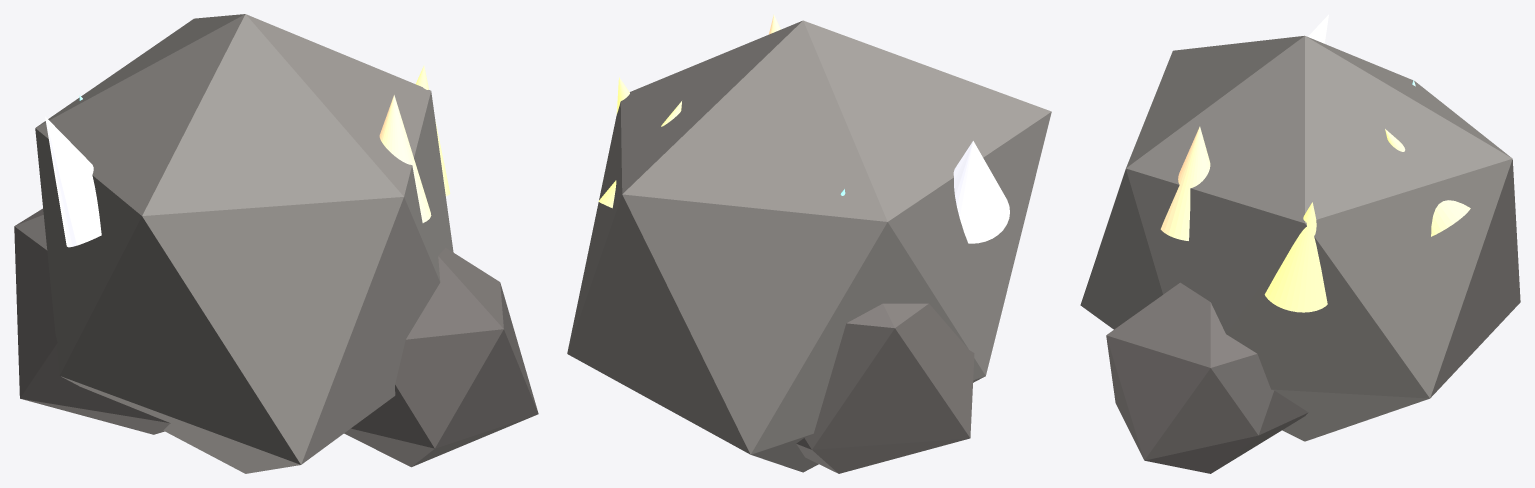
File: ore_vein.glb
3 views of the same model, side by side, from view 1: azimuth 30°, elevation 25°; view 2: azimuth 150°, elevation 25°; view 3: azimuth 270°, elevation 25° (orthographic). The views are drawn at different scales.
Visible parts, largest first — view 1: Boulder, Chunk_0, Chunk_3, Crystal_3, Crystal_5; view 2: Boulder, Chunk_3, Crystal_3; view 3: Boulder, Chunk_0, Crystal_0, Crystal_5, Crystal_1.
Boxes of the visible parts, box(x1,y1,x2,y2) form: Boulder: box(35, 14, 453, 473); Chunk_0: box(344, 247, 538, 467); Chunk_3: box(14, 208, 170, 434); Crystal_3: box(45, 116, 101, 247); Crystal_5: box(379, 95, 431, 222); Boulder: box(567, 20, 1051, 472); Chunk_3: box(796, 303, 974, 473); Crystal_3: box(953, 141, 1009, 243); Boulder: box(1080, 35, 1520, 441); Chunk_0: box(1106, 282, 1308, 473); Crystal_0: box(1264, 202, 1327, 312); Crystal_5: box(1160, 126, 1210, 240); Crystal_1: box(1385, 129, 1470, 236).
Size of the model in its own units: 3.26 by 3.58 by 3.52.
